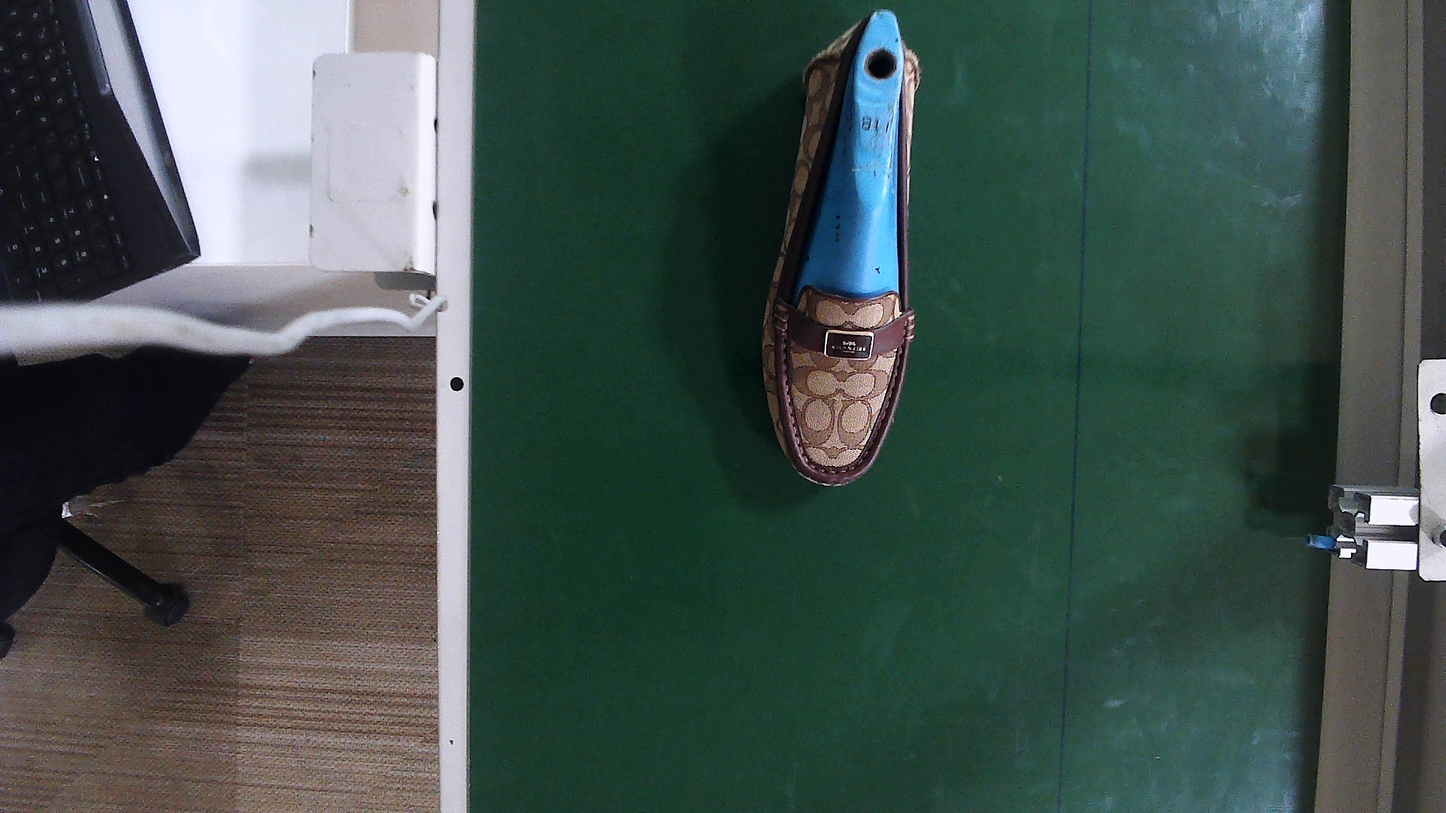shoe: (767, 12, 920, 486)
